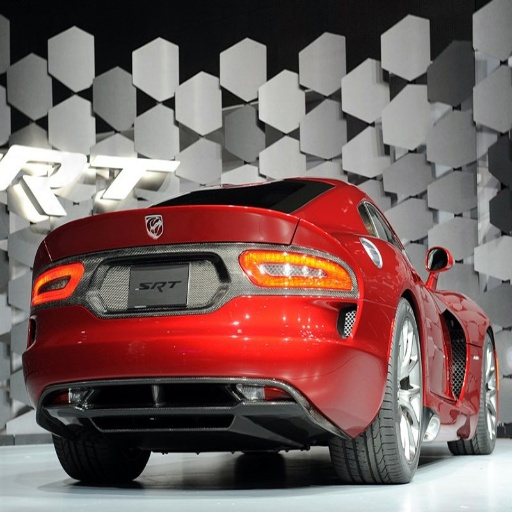back_bumper: (224, 303, 383, 436), (30, 361, 137, 429)
back_right_light: (240, 247, 329, 290), (34, 265, 80, 308)
trunk: (68, 197, 292, 301), (55, 317, 278, 366)
